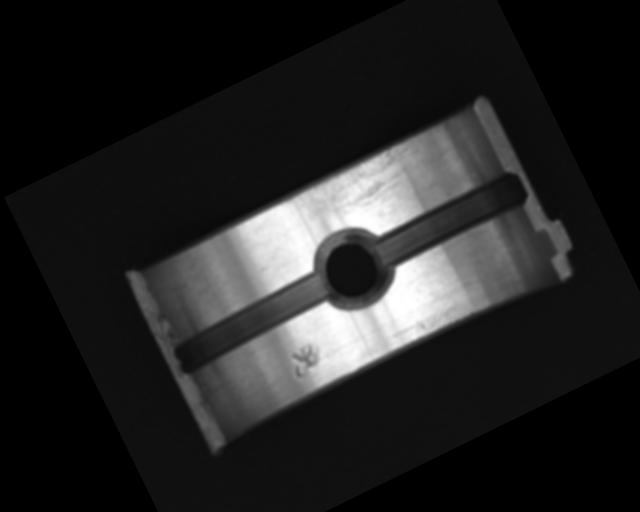bruise: (284, 339, 328, 380)
gap: (165, 266, 339, 381), (367, 168, 531, 273)
hole: (301, 217, 403, 322)
scratch: (276, 133, 437, 244)
